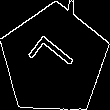L_SE: (26, 32, 83, 88)
